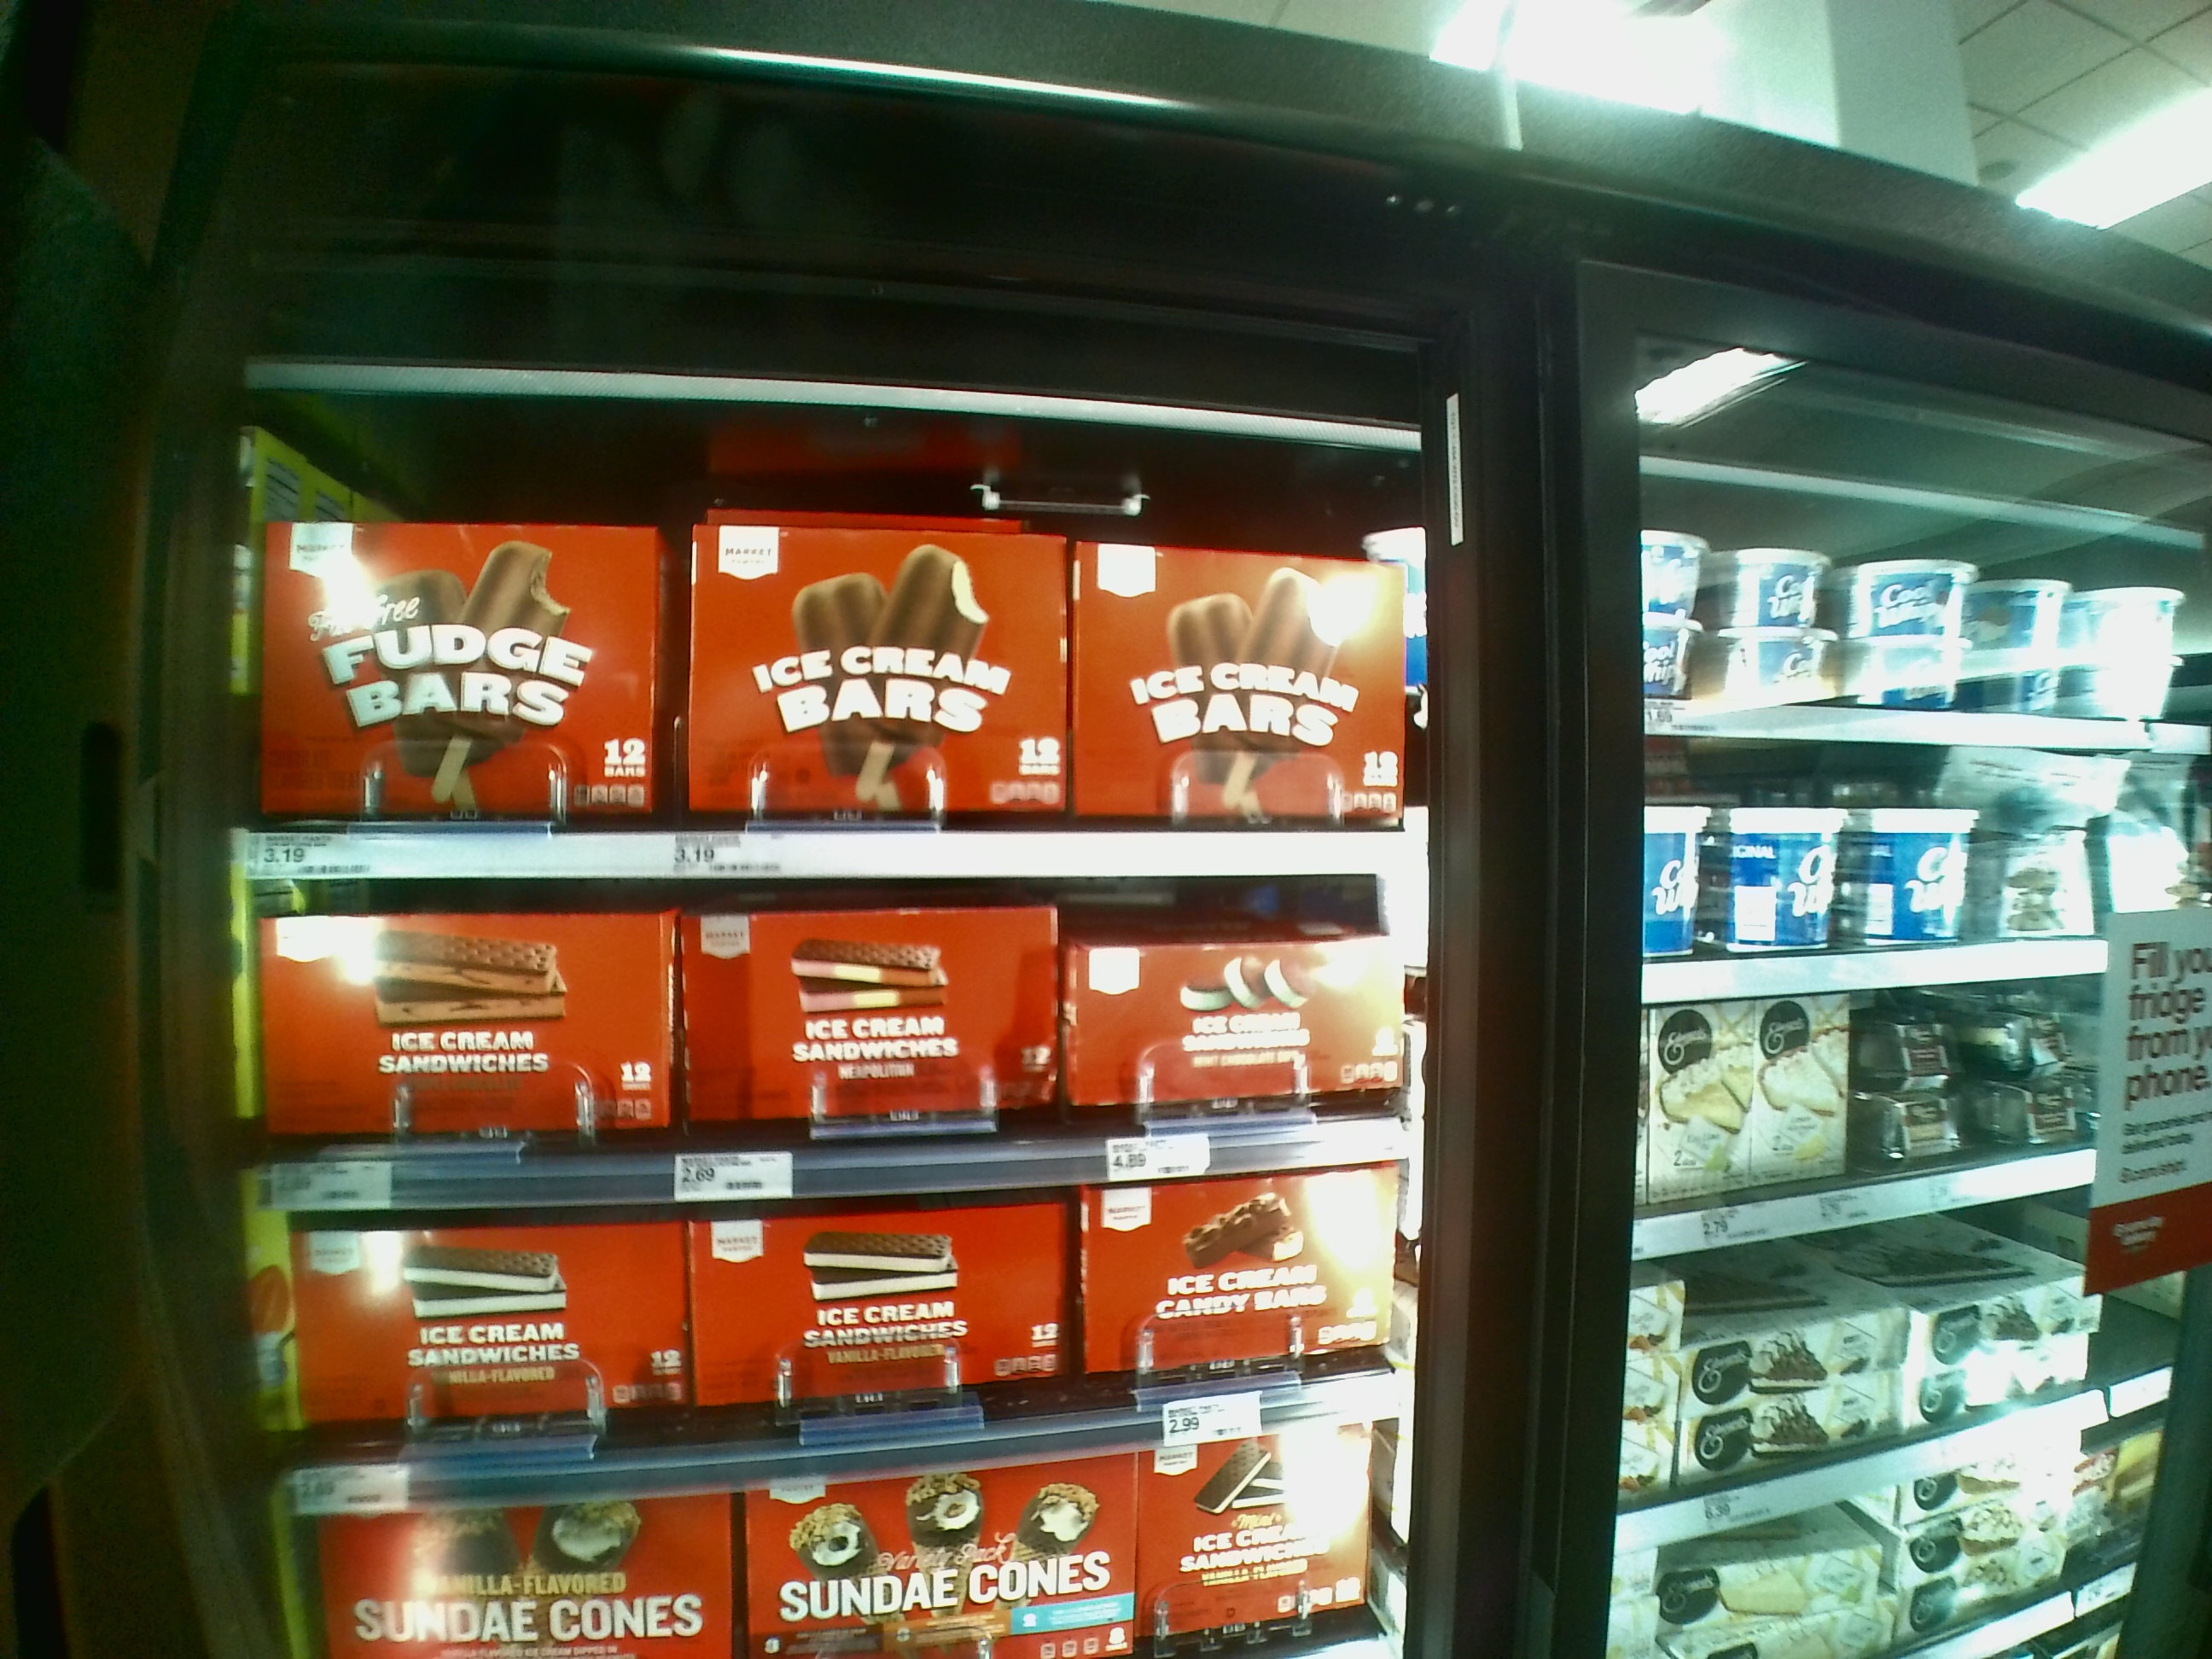shelf: (247, 387, 1428, 877), (254, 884, 1423, 1197), (261, 1202, 1379, 1485)
